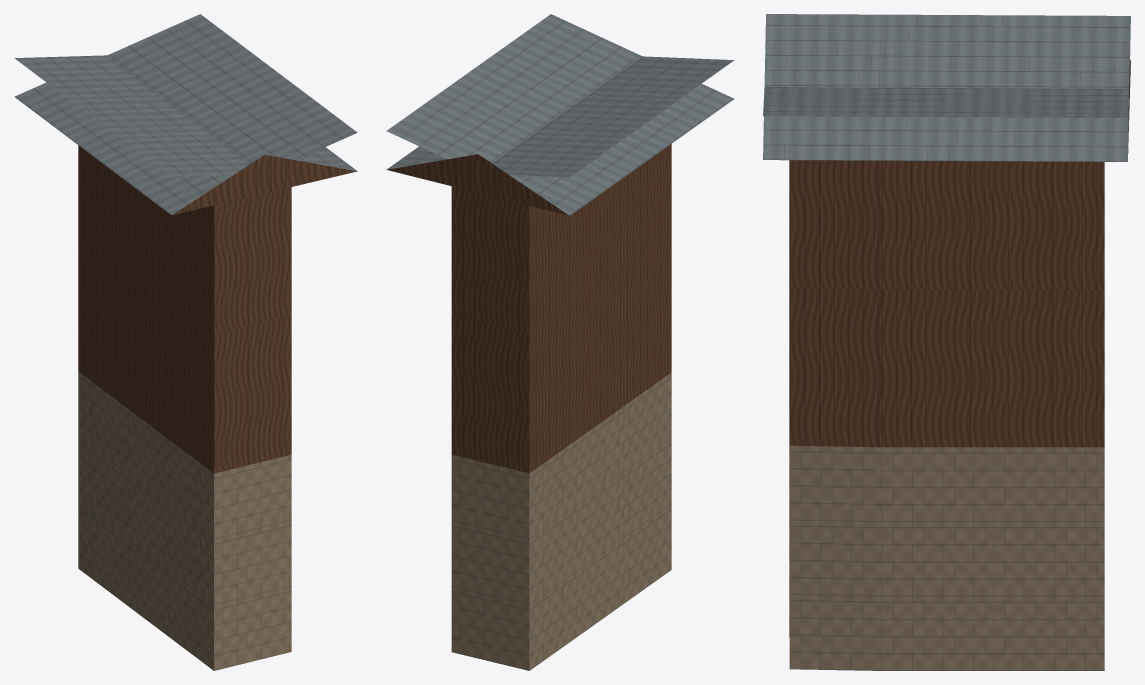
Rendered from bld_c-1_-3_551.gltf.
The picture shows the model from 3 angles, left to right: view 1: azimuth 30°, elevation 25°; view 2: azimuth 150°, elevation 25°; view 3: azimuth 270°, elevation 25°; orthographic projection. The views are drawn at different scales.
Visible parts, largest first — view 1: bld_c-1_-3_551; view 2: bld_c-1_-3_551; view 3: bld_c-1_-3_551.
Part boxes in pixels (x1,y1,x2,y2): bld_c-1_-3_551: [14, 14, 357, 670]; bld_c-1_-3_551: [386, 14, 734, 670]; bld_c-1_-3_551: [763, 14, 1130, 670].
Size of the model in its own units: 5.1 by 13.3 by 7.61.
Materials: 4 (4 with a texture image).
